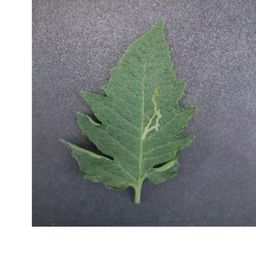liriomyza: (142, 86, 163, 141)
